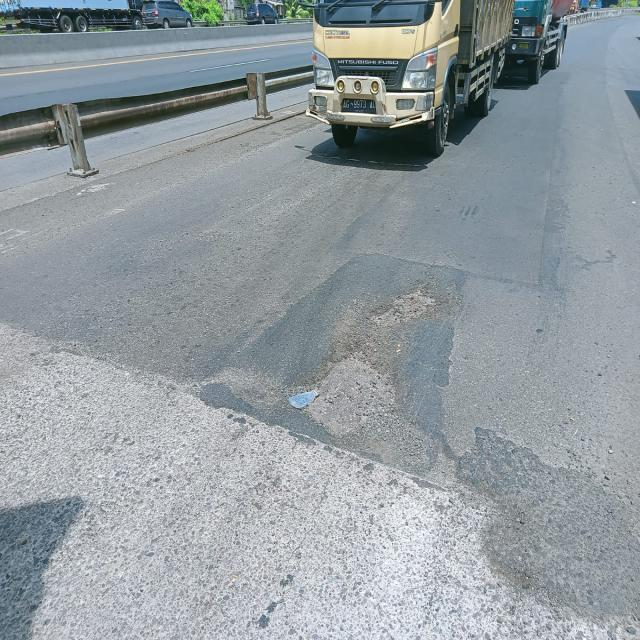Buraco: (281, 278, 466, 491)
